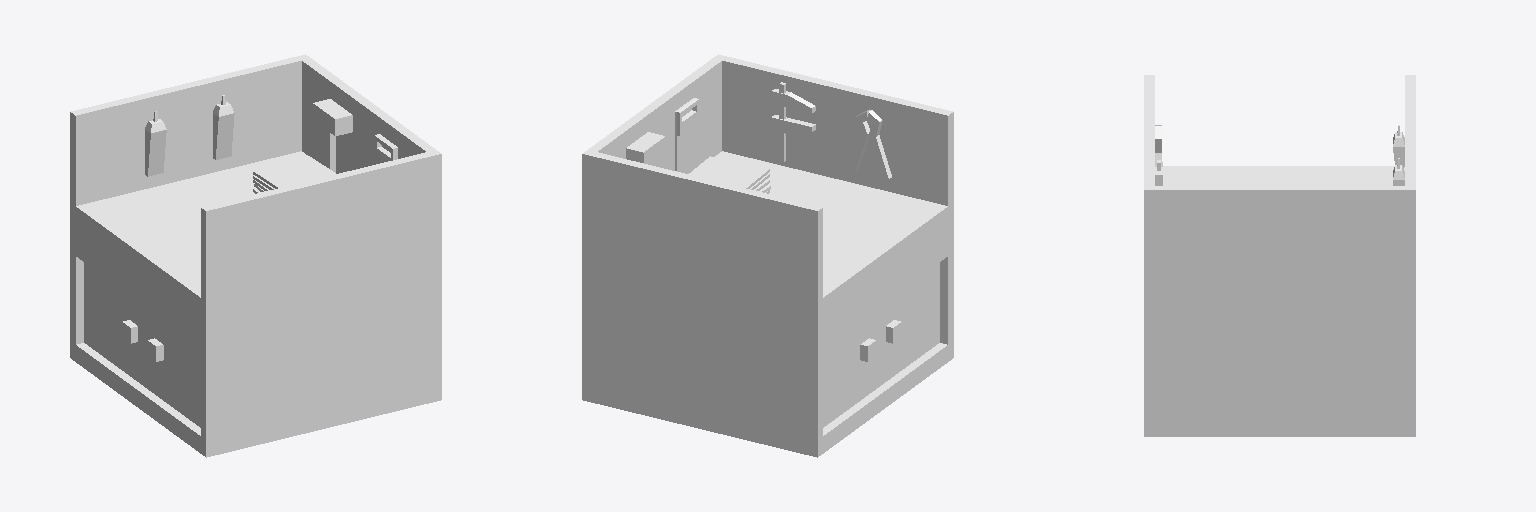
The model's file is paneler.obj.
The picture shows the model from 3 angles: view 1: azimuth 30°, elevation 25°; view 2: azimuth 150°, elevation 25°; view 3: azimuth 270°, elevation 25°; orthographic projection.
Parts seen in each view (by area): view 1: wood, paneler, panel8; view 2: wood, paneler, panel8; view 3: wood, paneler.
Part boxes in pixels (x1,y1,x2,y2): wood: (70,54,441,457); paneler: (76,61,425,361); panel8: (253,156,335,188); wood: (582,54,953,457); paneler: (598,61,947,361); panel8: (689,156,769,188); wood: (1144,75,1415,436); paneler: (1155,125,1404,185).
Bounding box in the file's own units: 1 × 1 × 1.